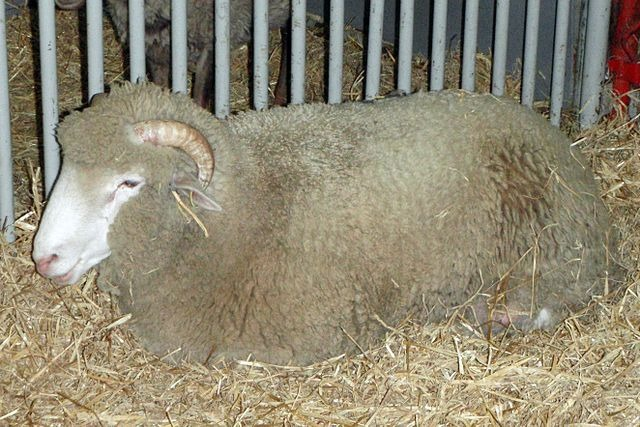resting: (33, 78, 617, 374)
